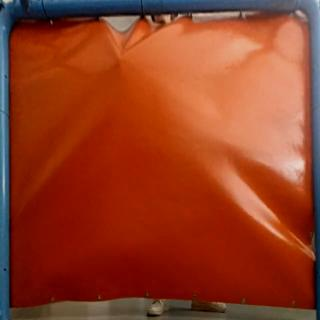Hit-hRxx: (110, 49, 128, 66)
